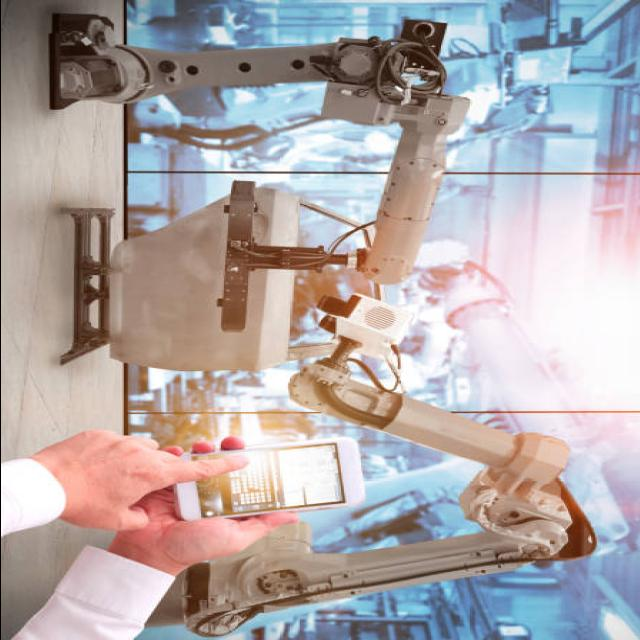Robotic-arm: (158, 342, 607, 640), (46, 17, 476, 285)
